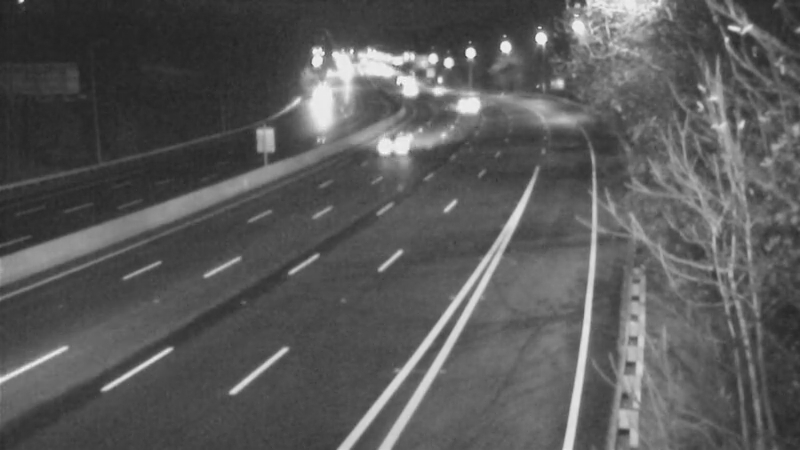vehicle: (420, 61, 470, 111), (439, 79, 489, 129), (376, 116, 426, 166), (293, 74, 343, 124)
